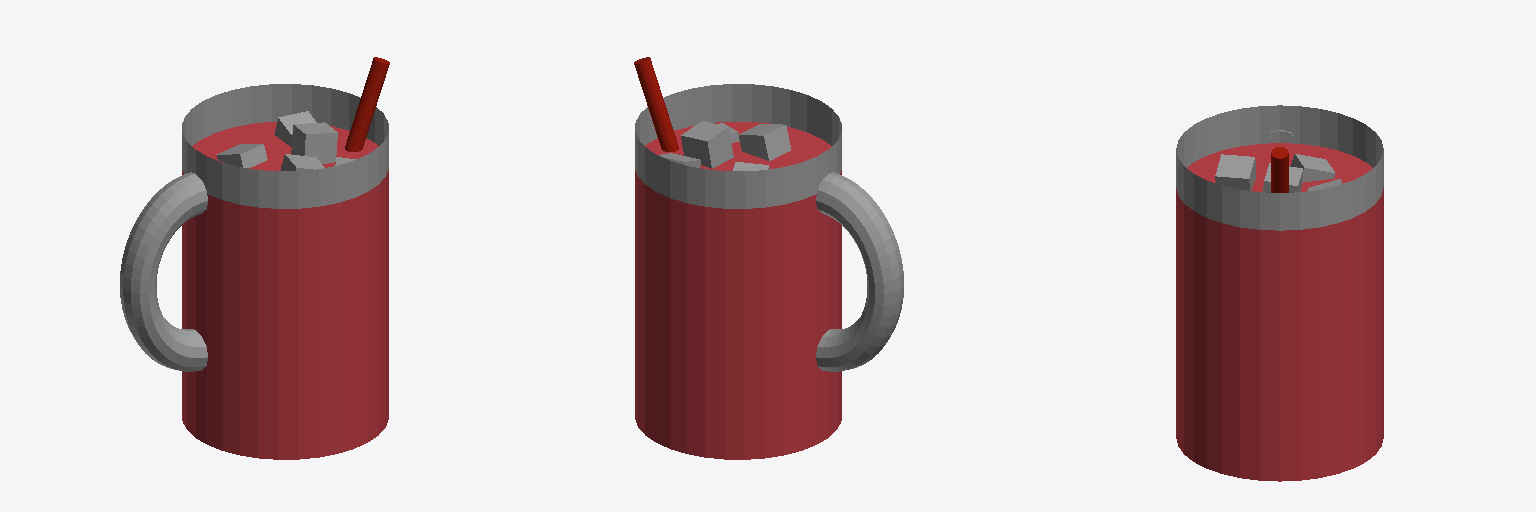
Rendered from bandung-beng.obj.
The picture shows the model from 3 angles: view 1: azimuth 30°, elevation 25°; view 2: azimuth 150°, elevation 25°; view 3: azimuth 270°, elevation 25°; orthographic projection.
Parts seen in each view (by area): view 1: Cylinder, Torus, Cylinder.001, Cube.002_Cube.003, Cube.001_Cube.002, Cube.003_Cube.004, Cube_Cube.001; view 2: Cylinder, Torus, Cube.002_Cube.003, Cylinder.001, Cube_Cube.001; view 3: Cylinder, Cube_Cube.001, Cube.001_Cube.002, Cylinder.001.
Part boxes in pixels (bbox=[...]): Cylinder: bbox=[182, 84, 388, 459]; Torus: bbox=[120, 172, 207, 371]; Cylinder.001: bbox=[345, 57, 389, 151]; Cube.002_Cube.003: bbox=[291, 122, 337, 163]; Cube.001_Cube.002: bbox=[216, 144, 267, 167]; Cube.003_Cube.004: bbox=[274, 111, 316, 146]; Cube_Cube.001: bbox=[280, 154, 324, 170]; Cylinder: bbox=[635, 84, 841, 459]; Torus: bbox=[816, 172, 903, 371]; Cube.002_Cube.003: bbox=[681, 121, 733, 168]; Cylinder.001: bbox=[634, 57, 678, 151]; Cube_Cube.001: bbox=[739, 124, 790, 160]; Cylinder: bbox=[1176, 105, 1383, 481]; Cube_Cube.001: bbox=[1215, 154, 1256, 190]; Cube.001_Cube.002: bbox=[1290, 154, 1335, 182]; Cylinder.001: bbox=[1271, 147, 1288, 192].
Size of the model in its own units: 1.77 by 2.13 by 1.2.